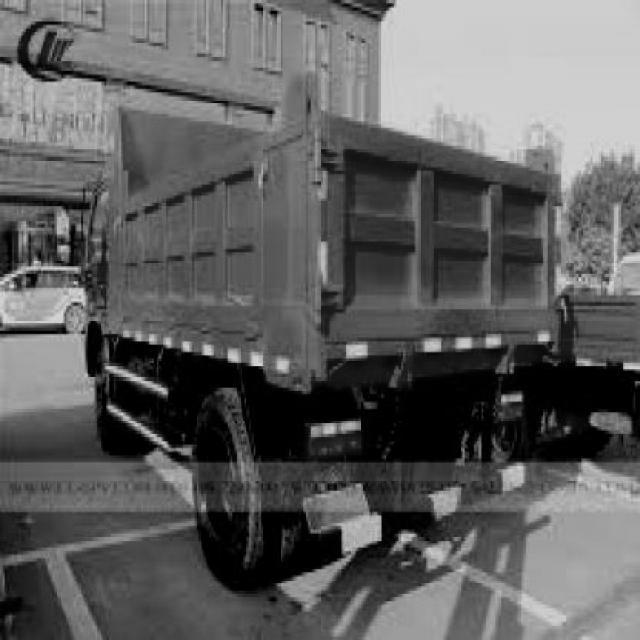Box Truck: (82, 70, 568, 592)
